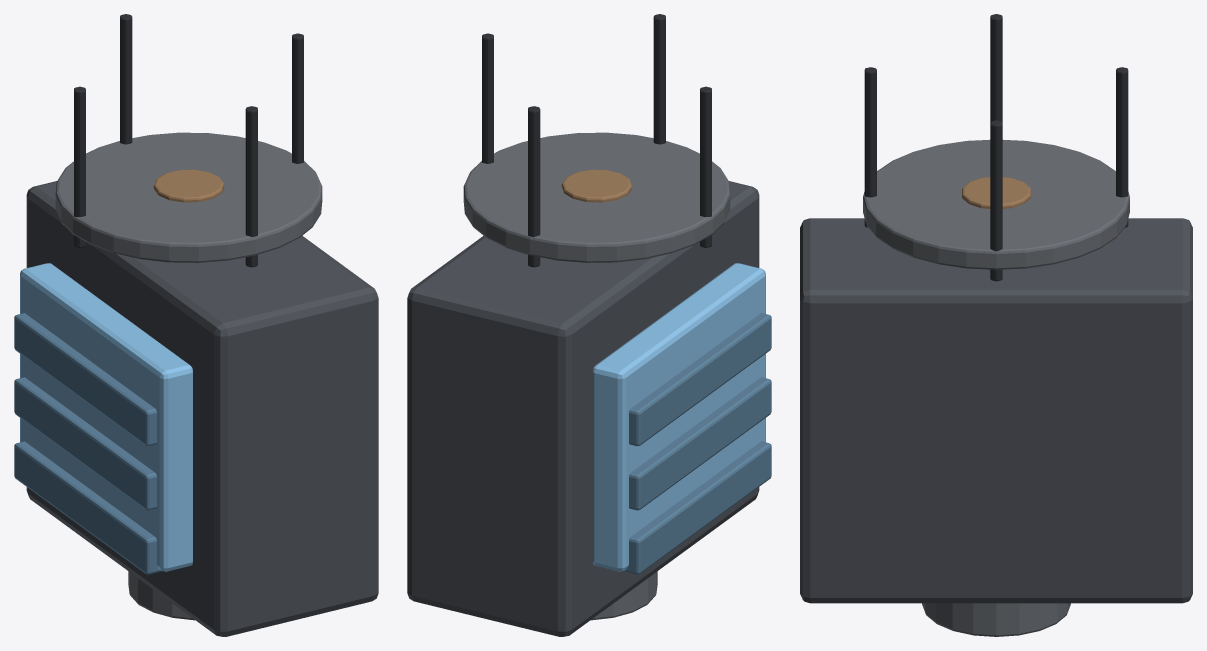
Rendered from module_pack_sensor.fbx.
3 renders of one model, left to right at view 1: azimuth 30°, elevation 25°; view 2: azimuth 150°, elevation 25°; view 3: azimuth 270°, elevation 25°, orthographic.
Visible parts, largest first — view 1: SM_Module_PackSensor; view 2: SM_Module_PackSensor; view 3: SM_Module_PackSensor.
Part boxes in pixels (bbox=[...]): SM_Module_PackSensor: bbox=[14, 14, 378, 636]; SM_Module_PackSensor: bbox=[407, 14, 771, 636]; SM_Module_PackSensor: bbox=[800, 14, 1192, 636].
Size of what is drawn, in the model's own units: 34 by 74.5 by 50.
